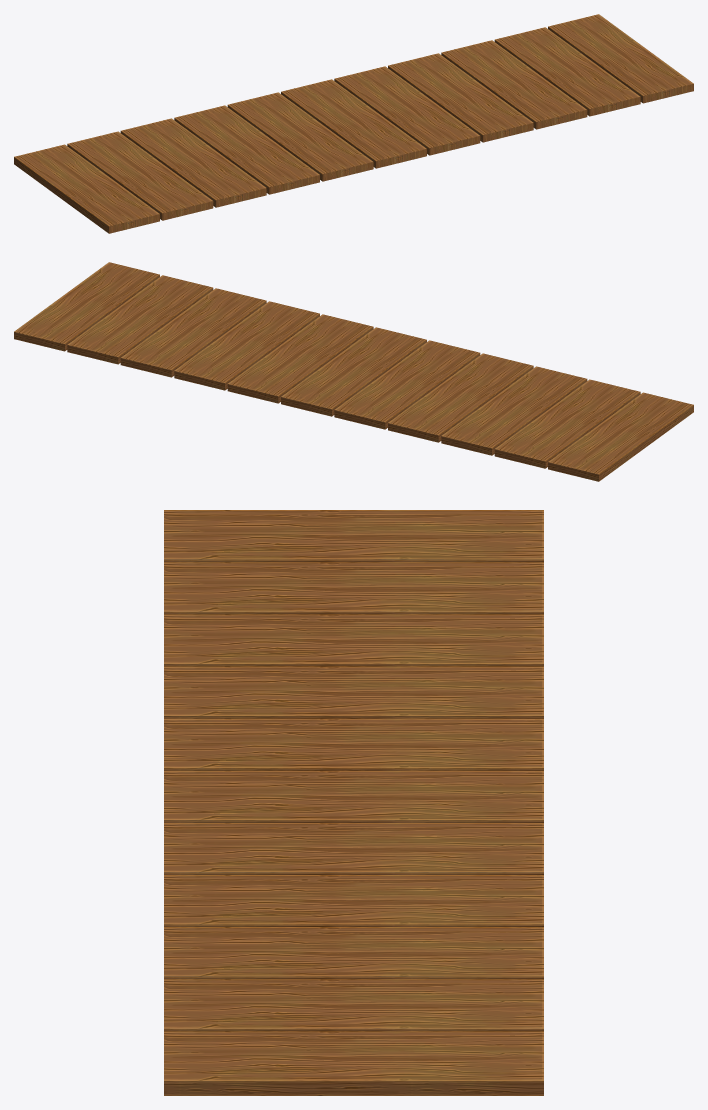
3 renders of one model, top to bottom at view 1: azimuth 30°, elevation 25°; view 2: azimuth 150°, elevation 25°; view 3: azimuth 270°, elevation 25°, orthographic. The views are drawn at different scales.
Parts seen in each view (by area): view 1: Cube.487; view 2: Cube.487; view 3: Cube.487.
Part boxes in pixels (x1,y1,x2,y2): Cube.487: (14, 14, 693, 233); Cube.487: (14, 262, 693, 481); Cube.487: (164, 510, 543, 1095).
Bounding box in the file's own units: 846 × 10.27 × 238.
1 material, 1 textured.
